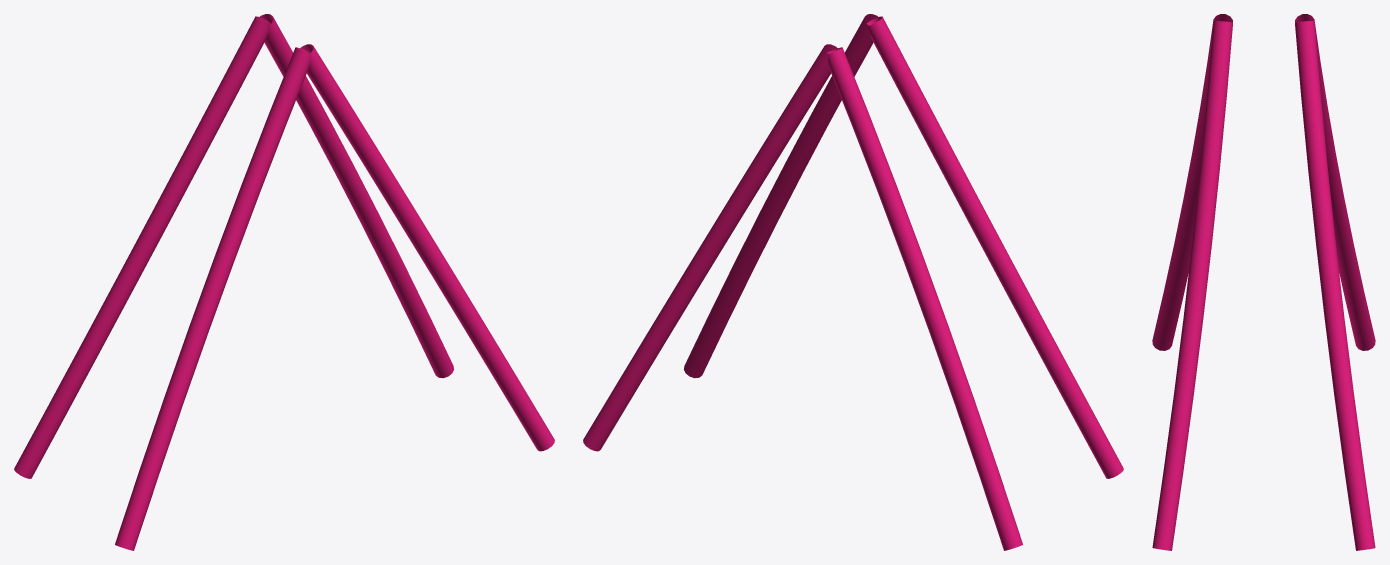
The model's file is ferris_frame.glb.
The picture shows the model from 3 angles, left to right: view 1: azimuth 30°, elevation 25°; view 2: azimuth 150°, elevation 25°; view 3: azimuth 270°, elevation 25°; orthographic projection.
Visible parts, largest first — view 1: ferris_frame; view 2: ferris_frame; view 3: ferris_frame.
Part boxes in pixels (<box>): ferris_frame: <box>14,14,554,550</box>; ferris_frame: <box>583,14,1123,550</box>; ferris_frame: <box>1152,14,1375,550</box>.
Bounding box in the file's own units: 1.24 × 1.17 × 0.5481.
1 material, 1 textured.
